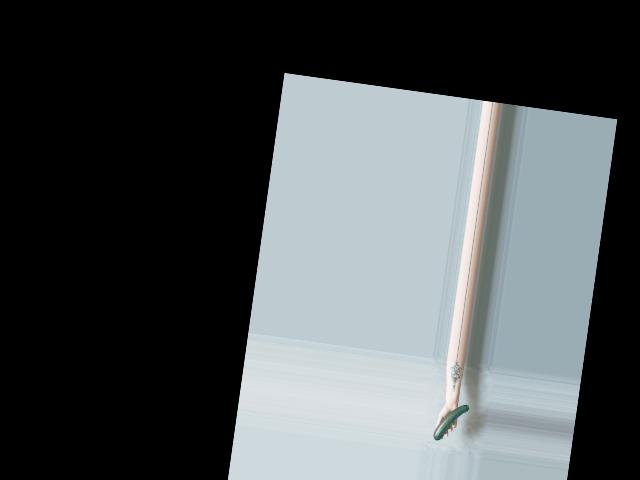cucumber: (433, 401, 469, 444)
